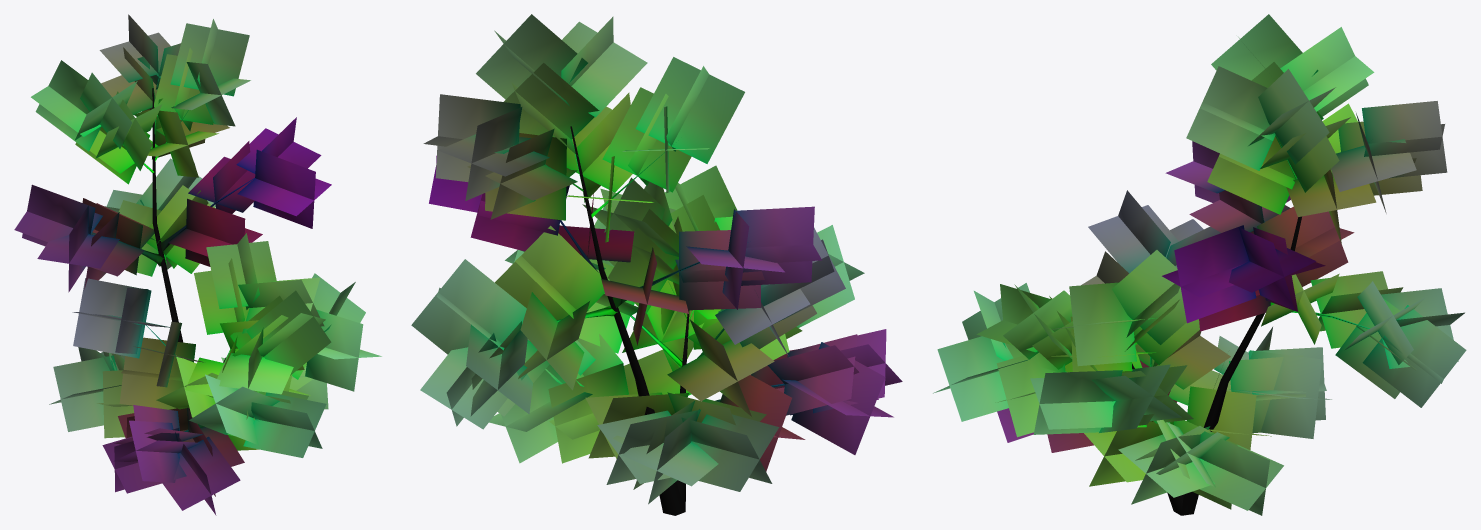
File: URP_P3_Tree_5_LOD_3.fbx
The picture shows the model from 3 angles, left to right: view 1: azimuth 30°, elevation 25°; view 2: azimuth 150°, elevation 25°; view 3: azimuth 270°, elevation 25°; orthographic projection. The views are drawn at different scales.
Parts seen in each view (by area): view 1: Tree_5_LOD_3; view 2: Tree_5_LOD_3; view 3: Tree_5_LOD_3.
Part boxes in pixels (x1,y1,x2,y2): Tree_5_LOD_3: (14,14,381,515); Tree_5_LOD_3: (411,14,902,515); Tree_5_LOD_3: (933,14,1466,515).
Size of the model in its own units: 558 by 745 by 750.
